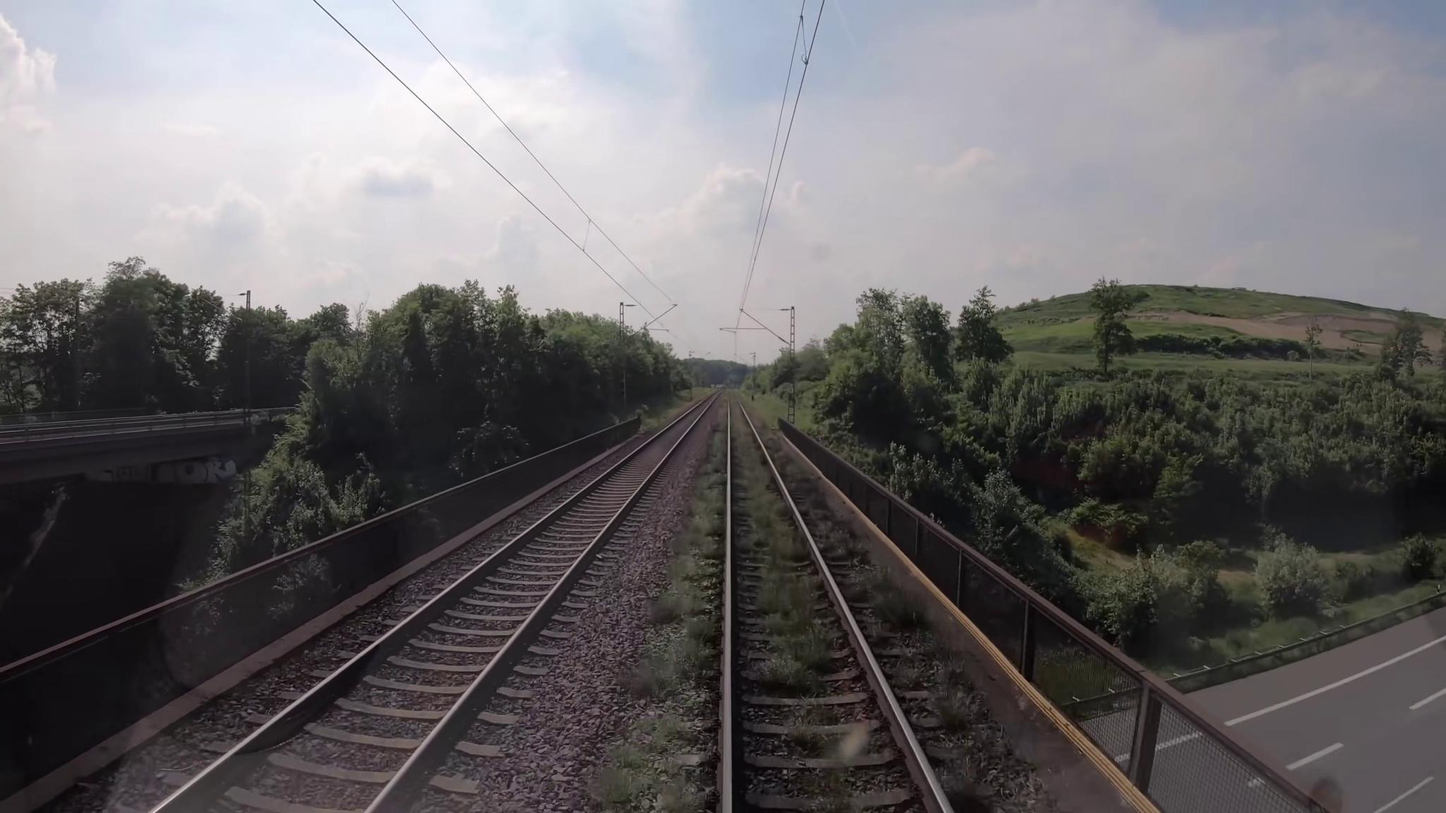Plant: (567, 406, 721, 813), (735, 424, 854, 699)
